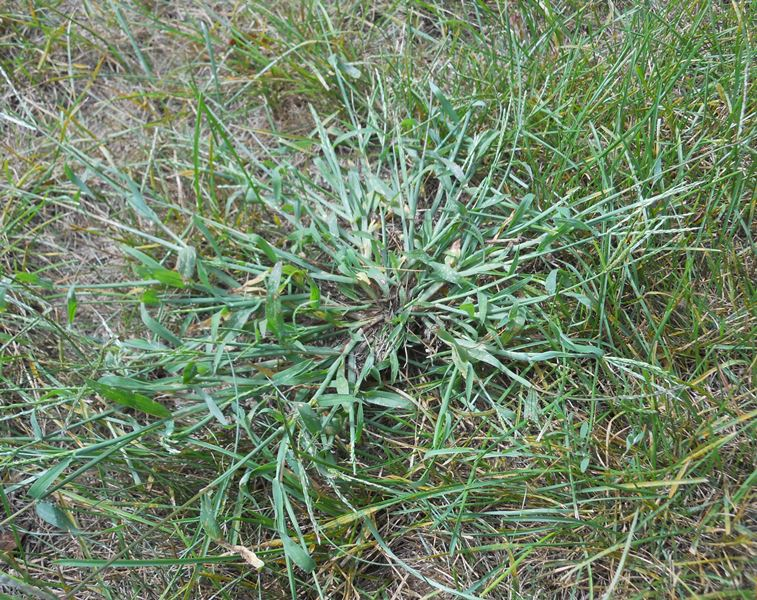crabgrass: (147, 109, 611, 465)
